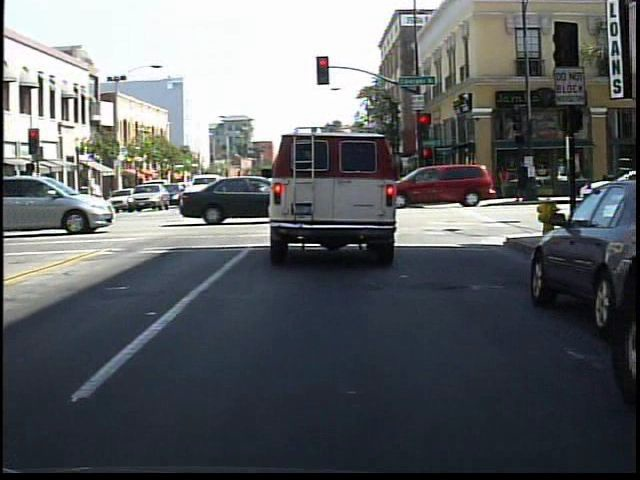person: (512, 155, 532, 205), (492, 160, 512, 200)
